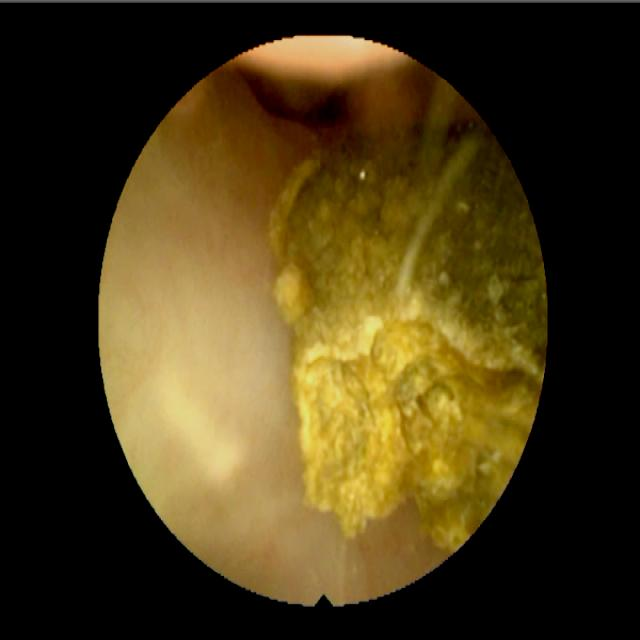stone: (272, 124, 542, 543)
tissue: (105, 44, 428, 599)
